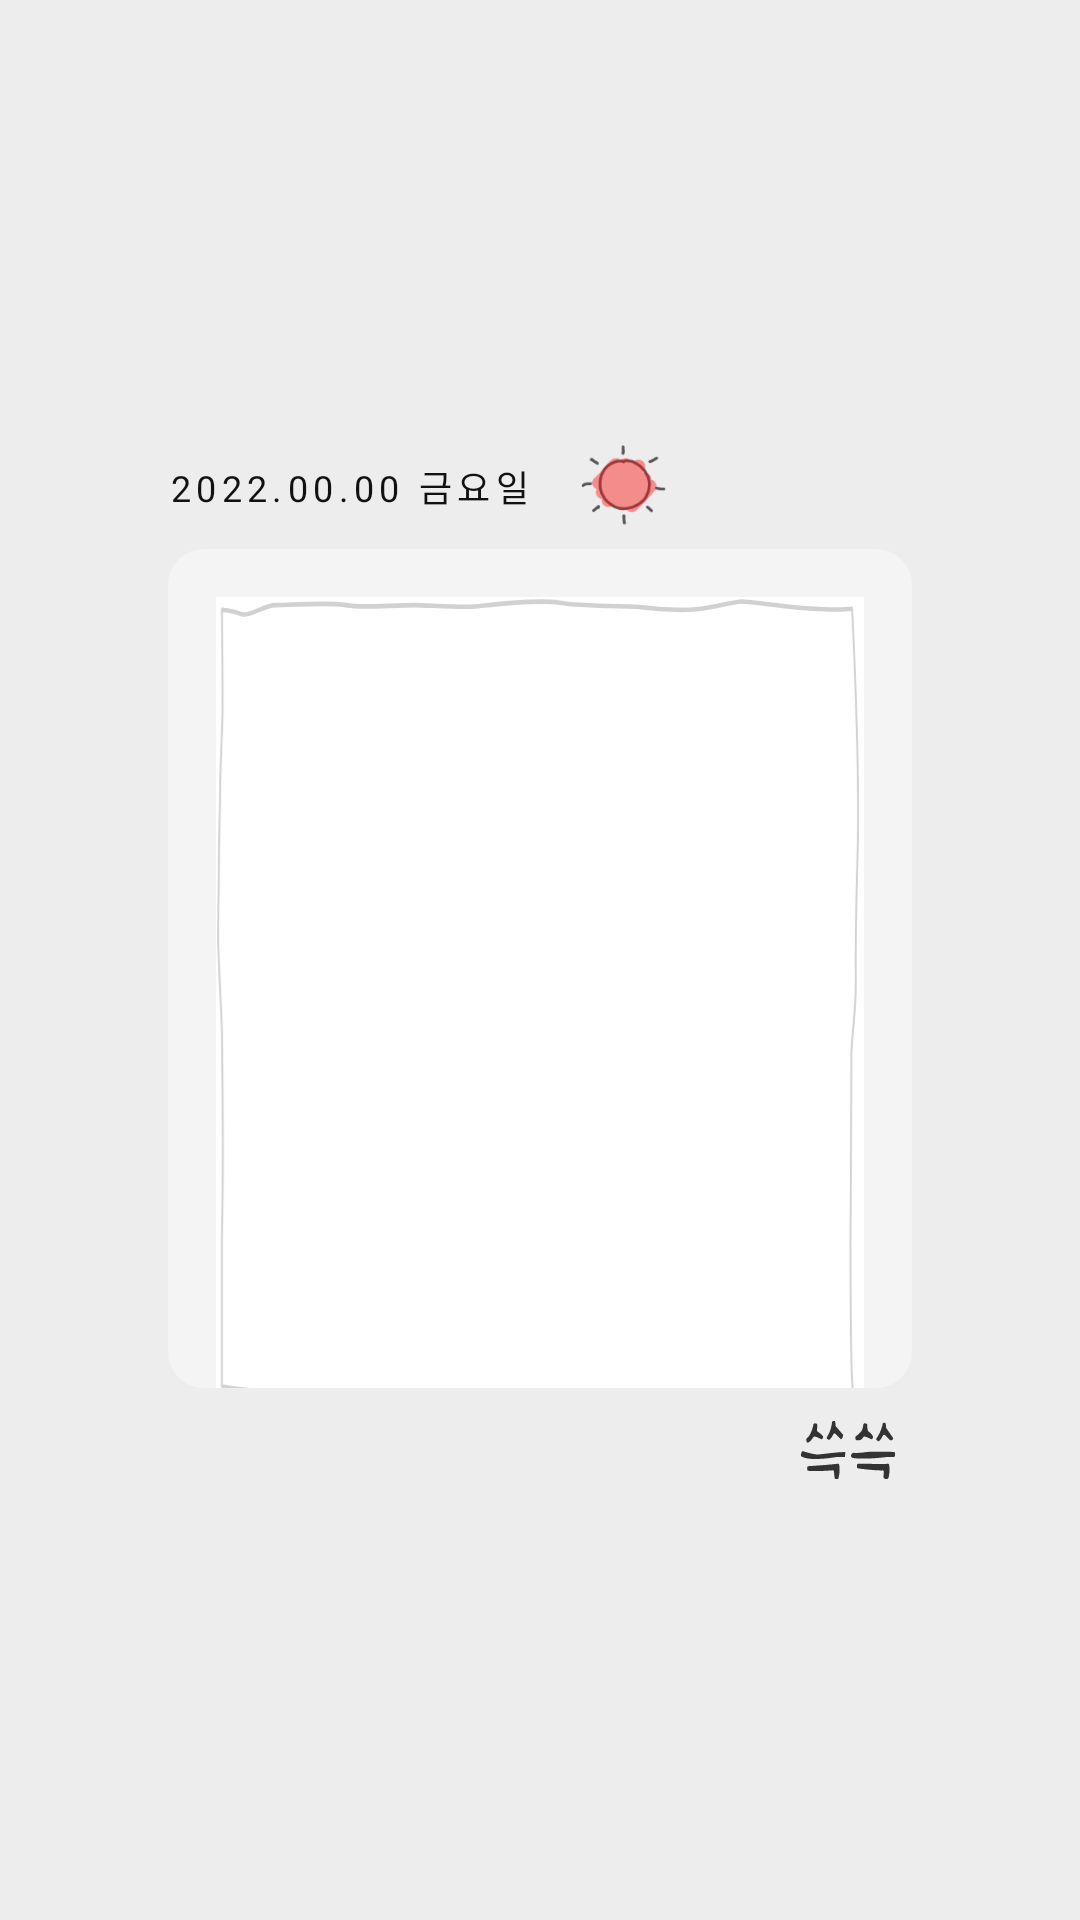

Named icons in this screenshot (1080x1920) and their centers, (x,y):
sunny: (623,485)
